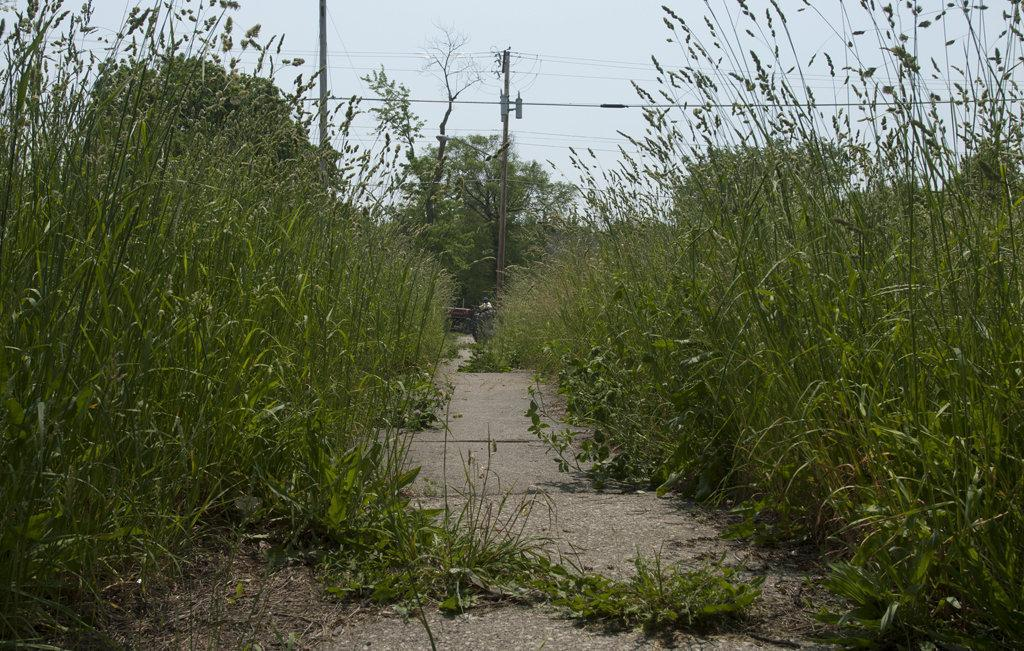overgrown grass: (555, 52, 1023, 627), (0, 144, 441, 648), (279, 526, 770, 632), (493, 235, 603, 373)
